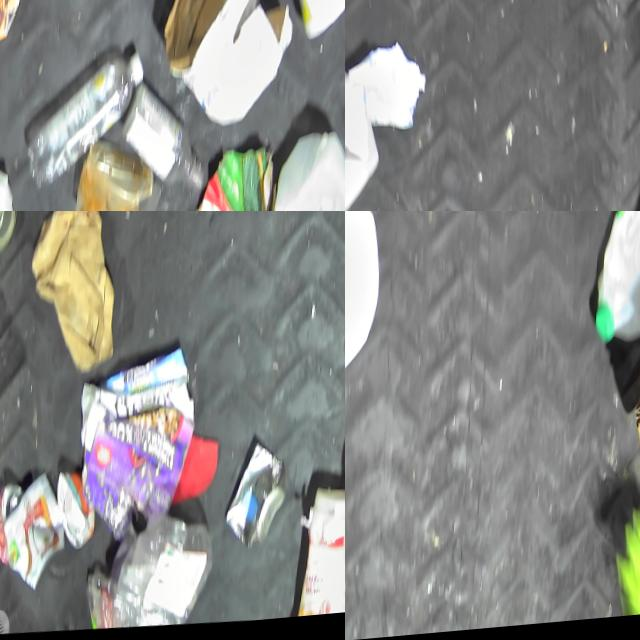can: (1, 471, 66, 594), (222, 441, 287, 557), (51, 468, 97, 552), (0, 475, 22, 570)
milk_jug: (590, 211, 640, 361), (345, 211, 382, 409), (262, 127, 345, 211)
plastic_bottle: (20, 54, 148, 201)
